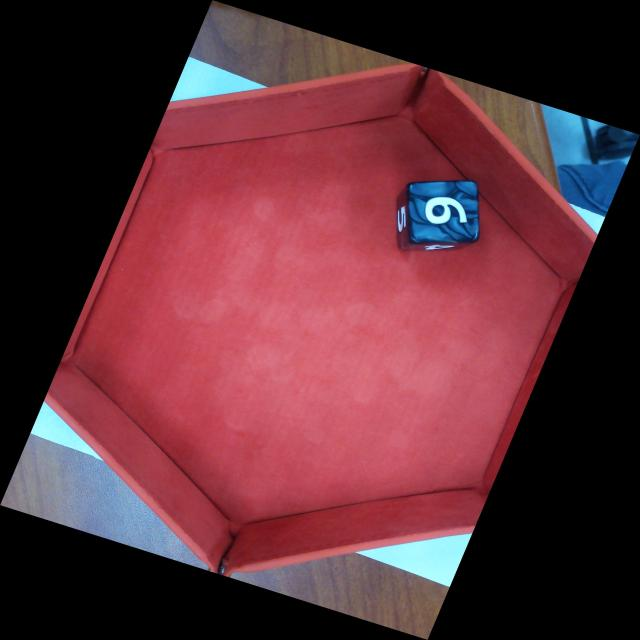dice: (406, 179, 480, 244)
